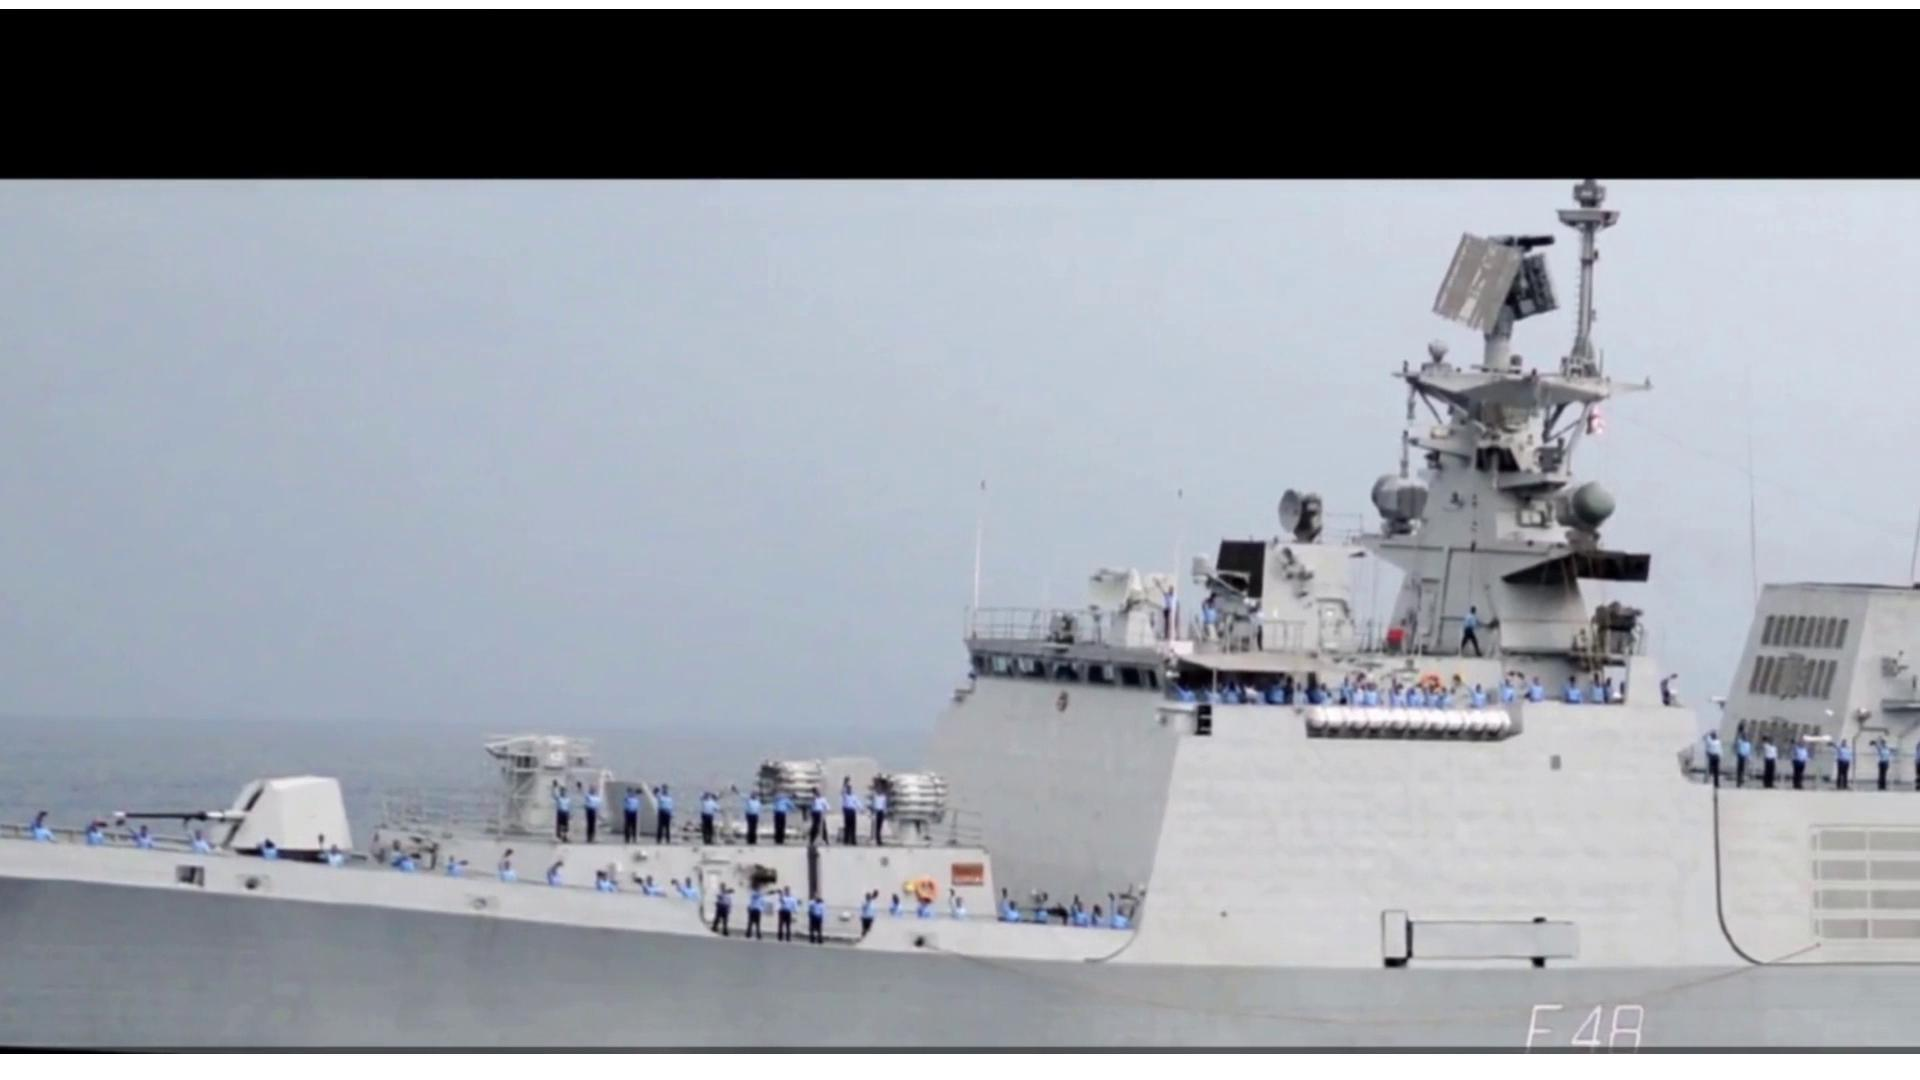OCR: (1498, 992, 1656, 1054)
